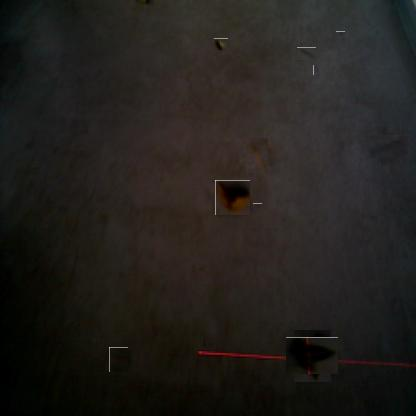dirty: (290, 334, 335, 378), (215, 180, 250, 215), (242, 140, 272, 170), (215, 38, 228, 52)
mark: (373, 130, 405, 162), (107, 348, 130, 370), (298, 45, 315, 62), (196, 262, 206, 272), (200, 336, 208, 348), (313, 65, 320, 75), (254, 202, 261, 210), (337, 30, 344, 38)
